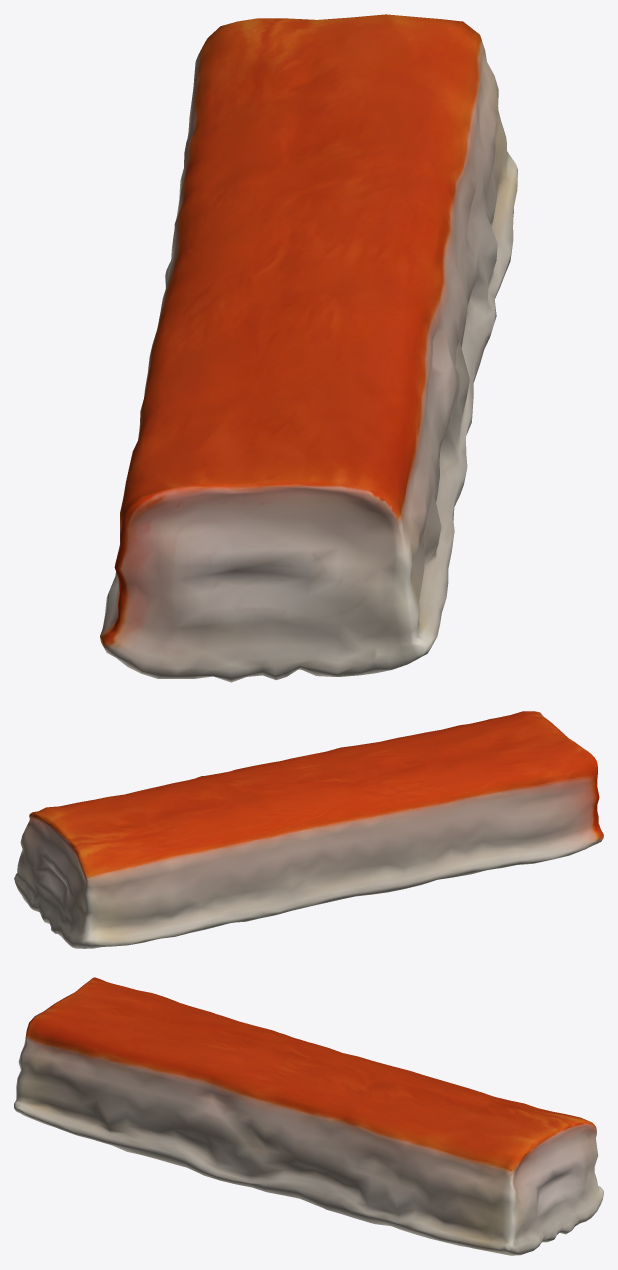
Rendered from optimized_glb.glb.
3 renders of one model, top to bottom at view 1: azimuth 30°, elevation 25°; view 2: azimuth 150°, elevation 25°; view 3: azimuth 270°, elevation 25°, orthographic. The views are drawn at different scales.
Parts seen in each view (by area): view 1: Crab Stick; view 2: Crab Stick; view 3: Crab Stick.
Part boxes in pixels (left/top/right/bottom): Crab Stick: left=100, top=14, right=517, bottom=682; Crab Stick: left=14, top=711, right=603, bottom=948; Crab Stick: left=14, top=977, right=603, bottom=1255.
Size of the model in its own units: 0.8184 by 0.2012 by 0.998.
Materials: 1 (1 with a texture image).
